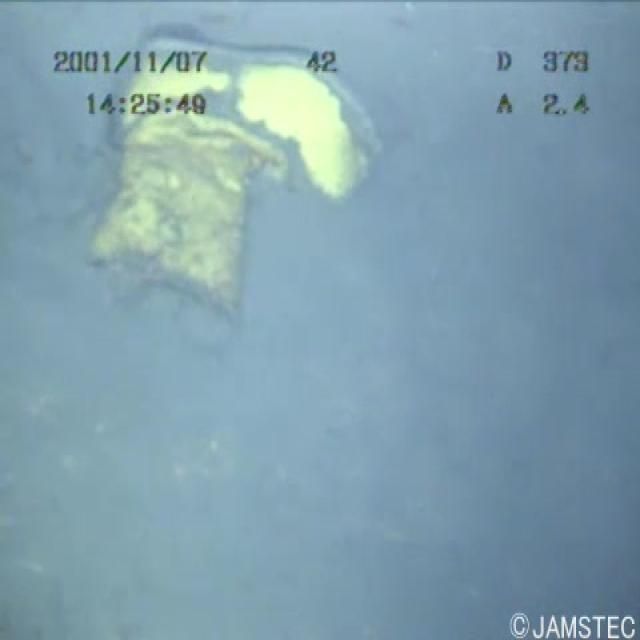plastic: (49, 11, 380, 334)
